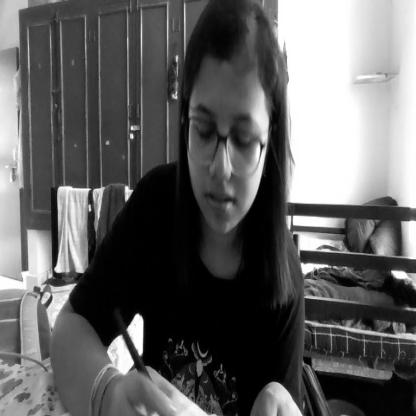Normal: (183, 0, 290, 241)
